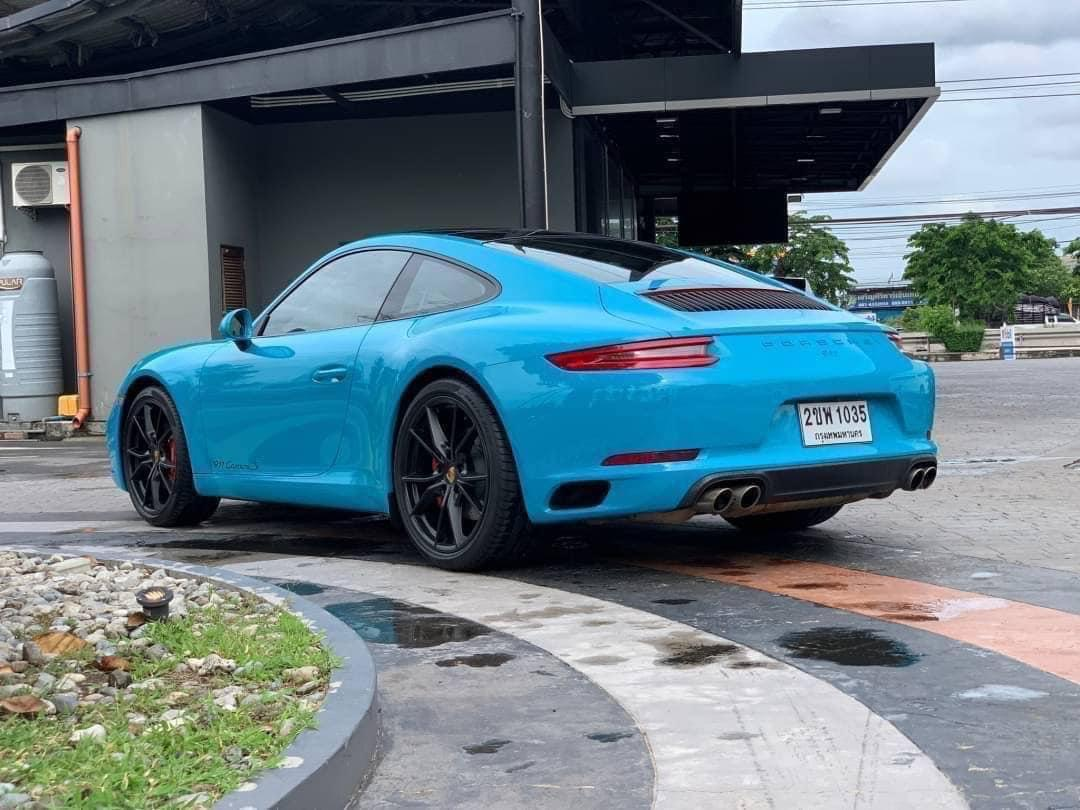license-plate: (787, 386, 880, 460)
